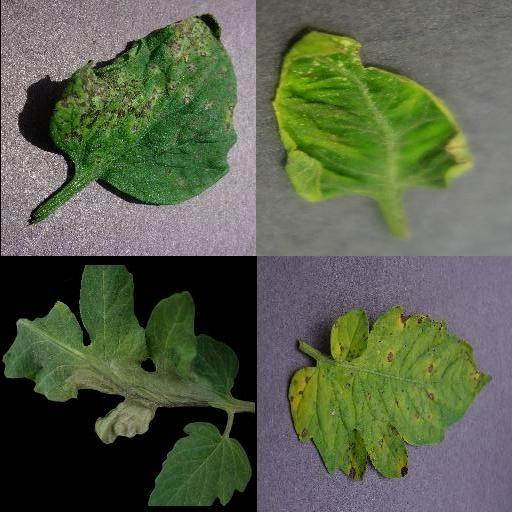Healthy: (147, 420, 251, 506)
Late Blight: (0, 267, 238, 445)
Septoria: (50, 16, 238, 207), (286, 307, 490, 483)
Yellow Leaf Curl Virus: (275, 28, 473, 202)
